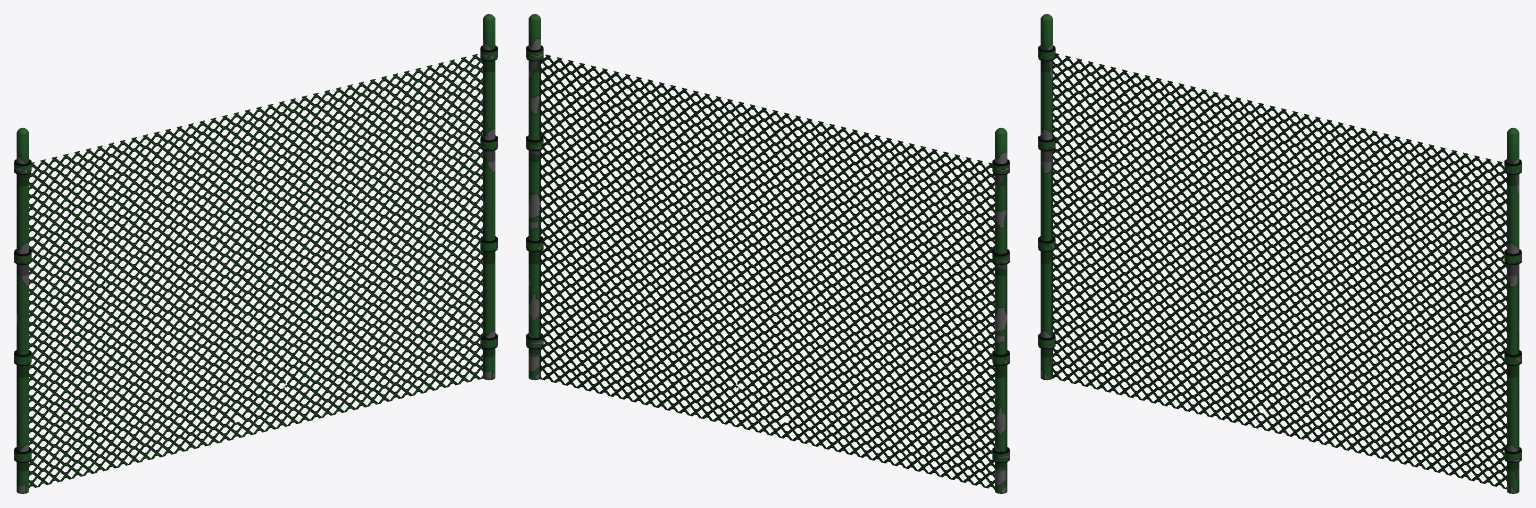
The model's file is Prop_Valla1 (1) - Copy.fbx.
3 renders of one model, left to right at view 1: azimuth 30°, elevation 25°; view 2: azimuth 150°, elevation 25°; view 3: azimuth 330°, elevation 25°, orthographic.
Visible parts, largest first — view 1: Prop_Valla; view 2: Prop_Valla; view 3: Prop_Valla.
Part boxes in pixels (x1=…): Prop_Valla: x1=14, y1=14, x2=497, y2=493; Prop_Valla: x1=526, y1=14, x2=1009, y2=493; Prop_Valla: x1=1038, y1=14, x2=1521, y2=493.
Bounding box in the file's own units: 4.25 × 3.06 × 0.1361.
